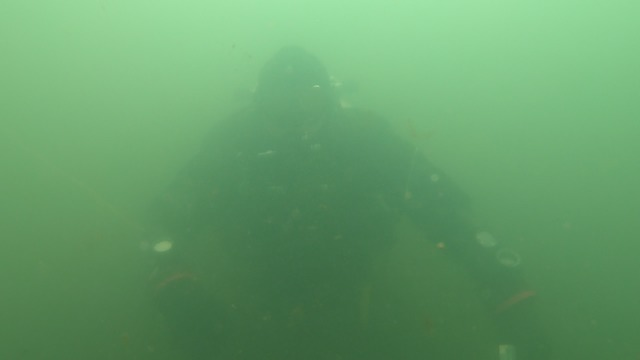Diver: (138, 45, 561, 356)
Hand: (140, 278, 245, 351), (473, 297, 553, 352)
Head: (247, 39, 356, 190)
